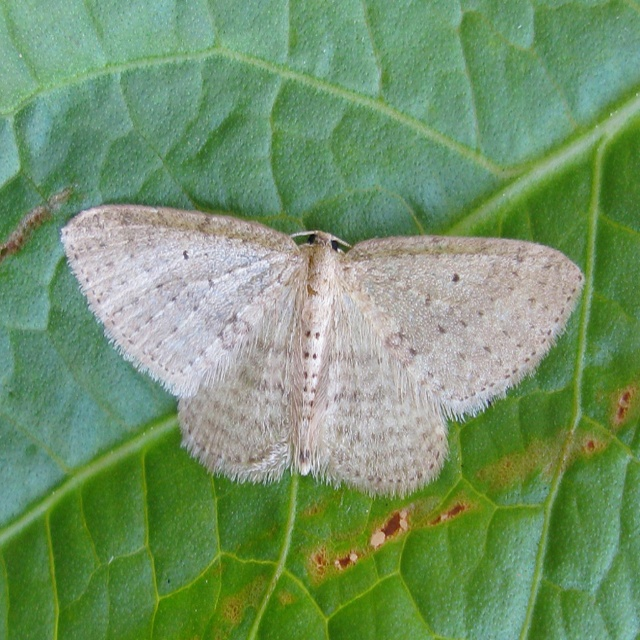Butterfly: (60, 204, 587, 501)
